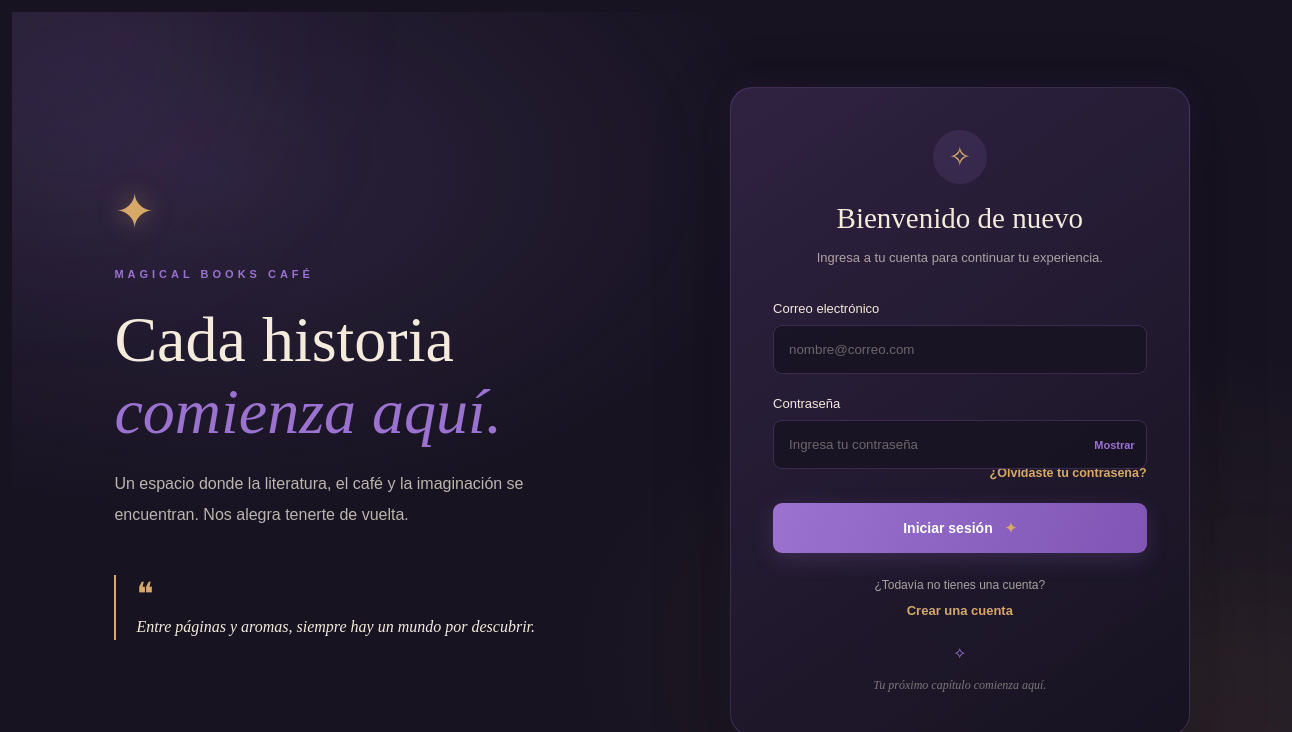
Login › envía las credenciales recortando el correo
Type "ana@example.com " into the field labelled "Correo electrónico" at {"x": 960, "y": 350}, box [773,325,1146,374]
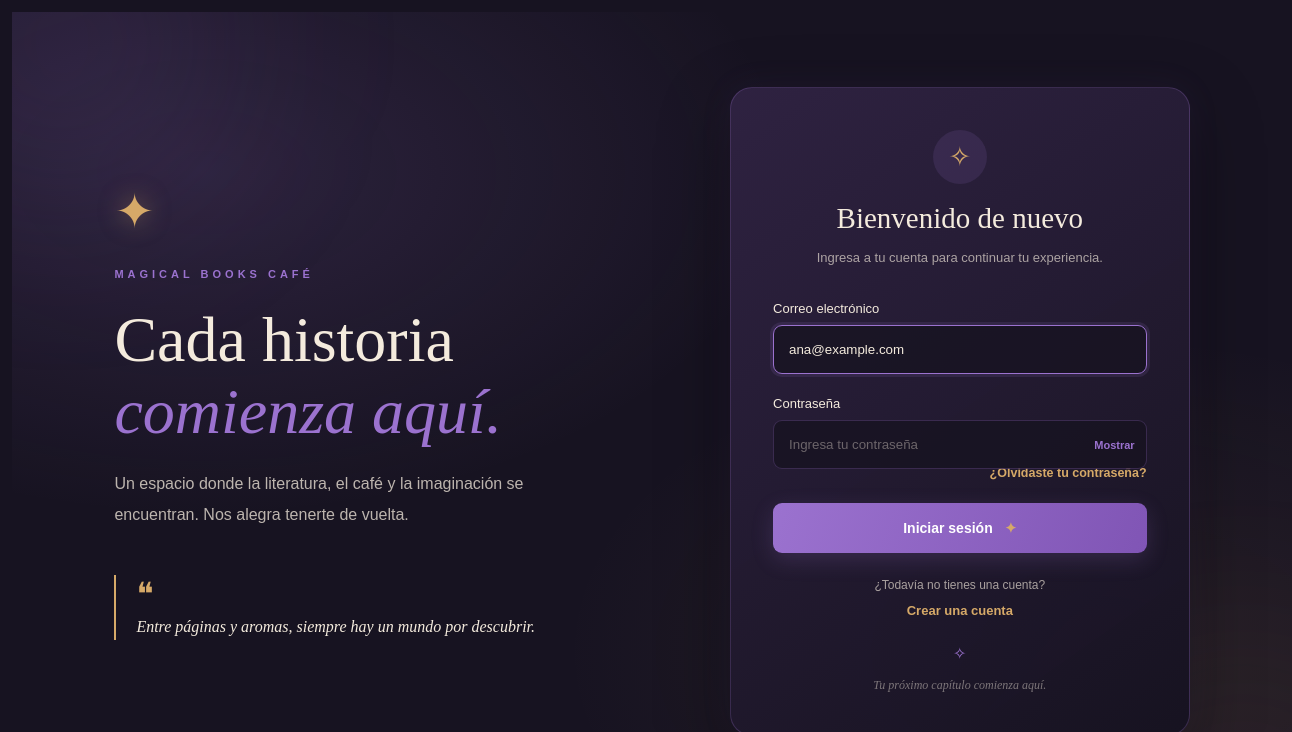
Type "secreta123" into the password field labelled "Contraseña" at {"x": 960, "y": 445}, box [773,420,1146,469]
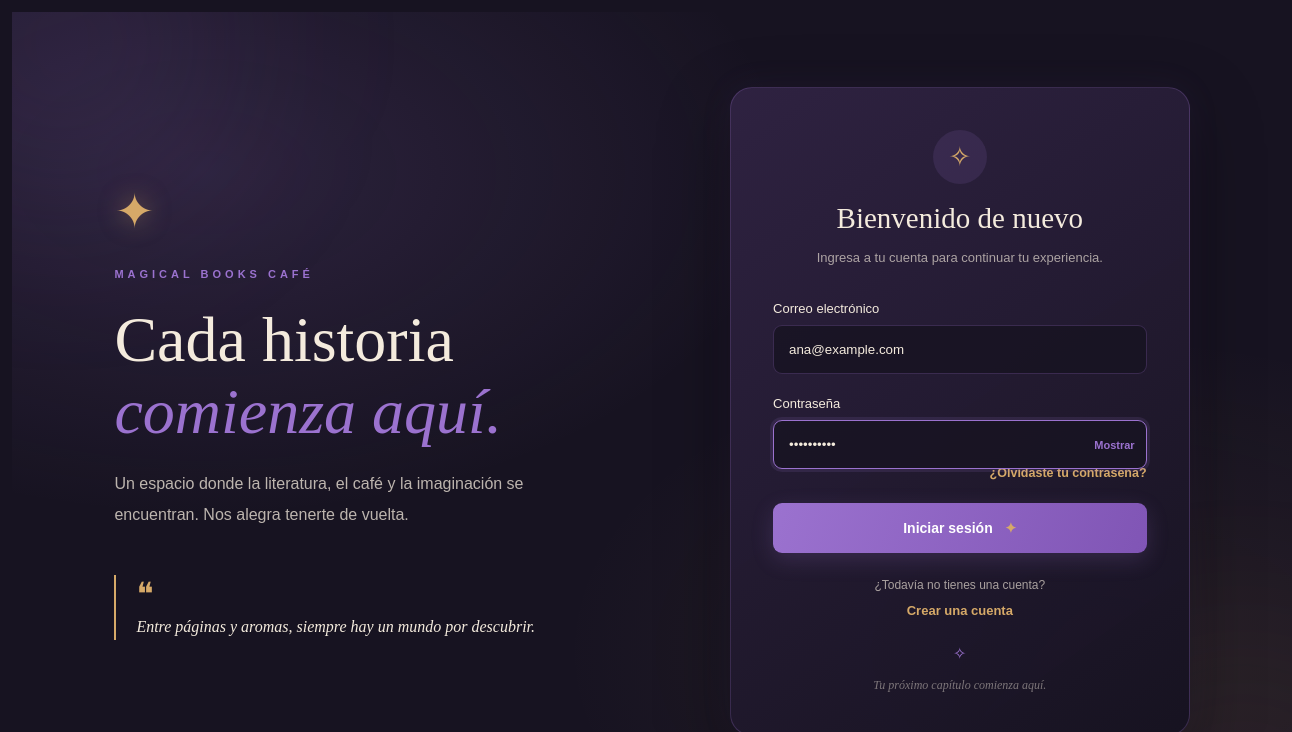
Click the button "Iniciar sesión ✦" at {"x": 960, "y": 528}, box [773,503,1146,553]
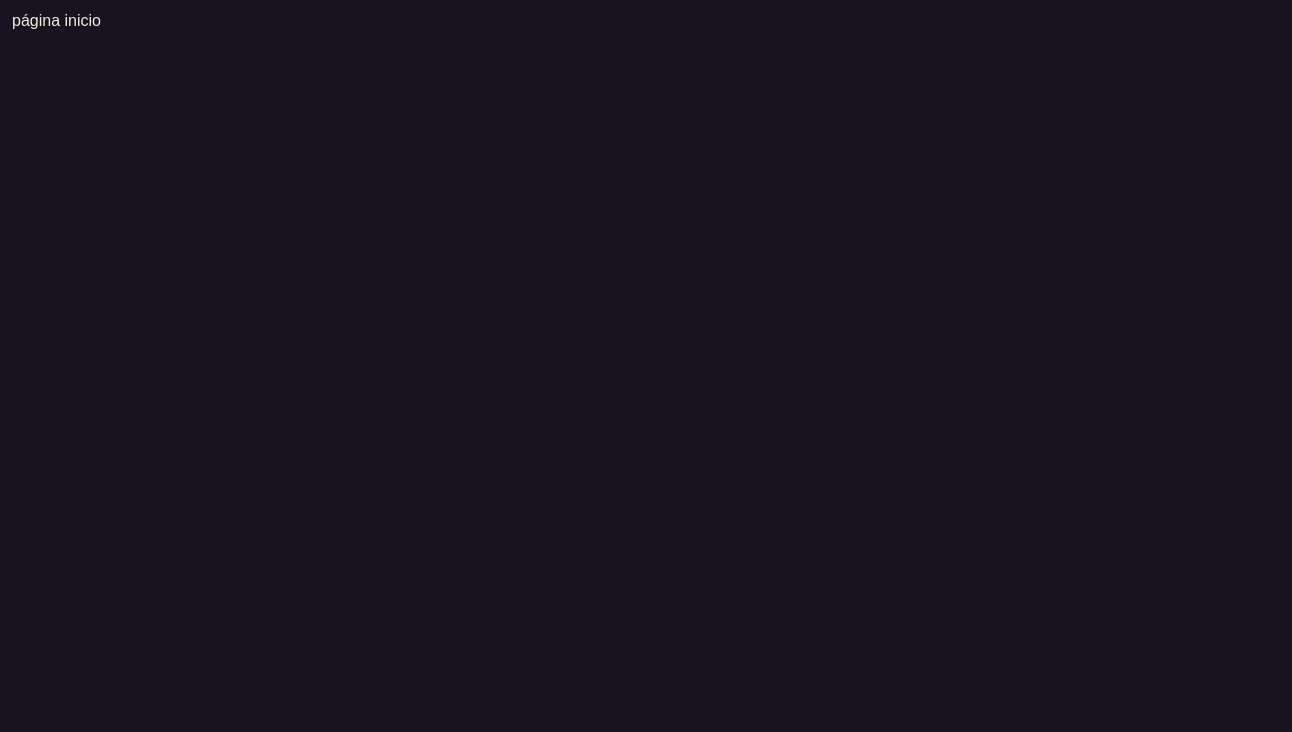
Result: the text "página inicio" is shown at [12,12,101,29]
